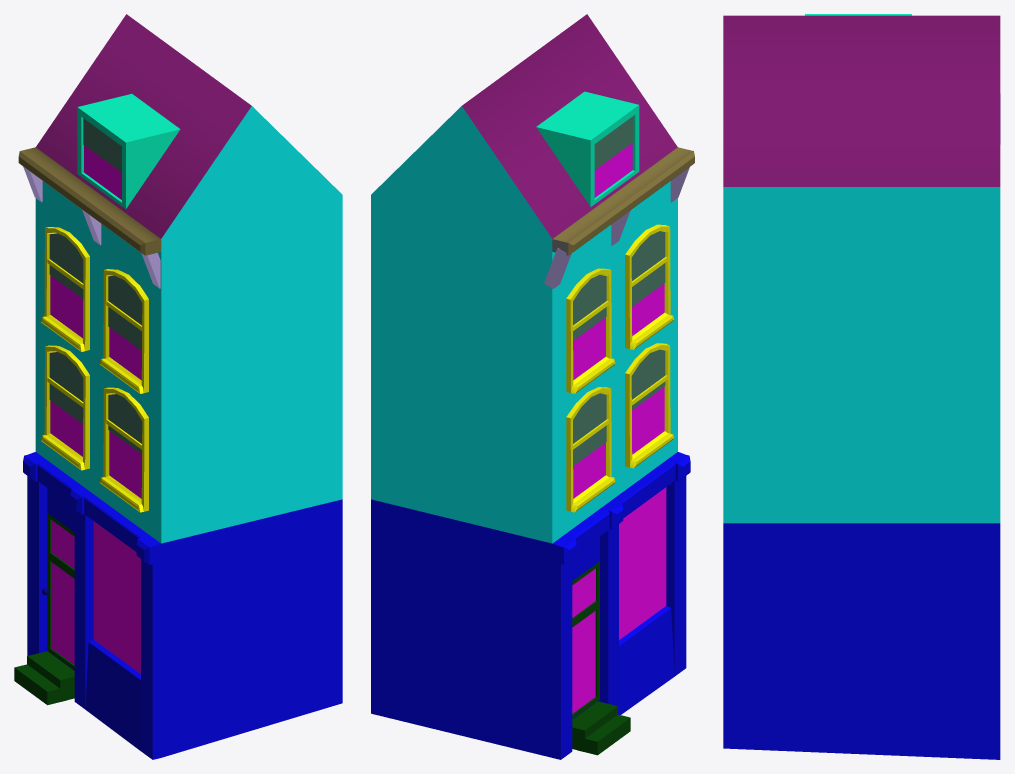
File: huis11_model.obj
3 views of the same model, side by side, from view 1: azimuth 30°, elevation 25°; view 2: azimuth 150°, elevation 25°; view 3: azimuth 270°, elevation 25° (orthographic). The views are drawn at different scales.
Visible parts, largest first — view 1: pCube45; view 2: pCube45; view 3: pCube45.
Part boxes in pixels (x1,y1,x2,y2): pCube45: [14, 14, 342, 759]; pCube45: [371, 14, 694, 759]; pCube45: [723, 14, 1000, 759].
Bounding box in the file's own units: 8.18 × 22.91 × 8.28.
